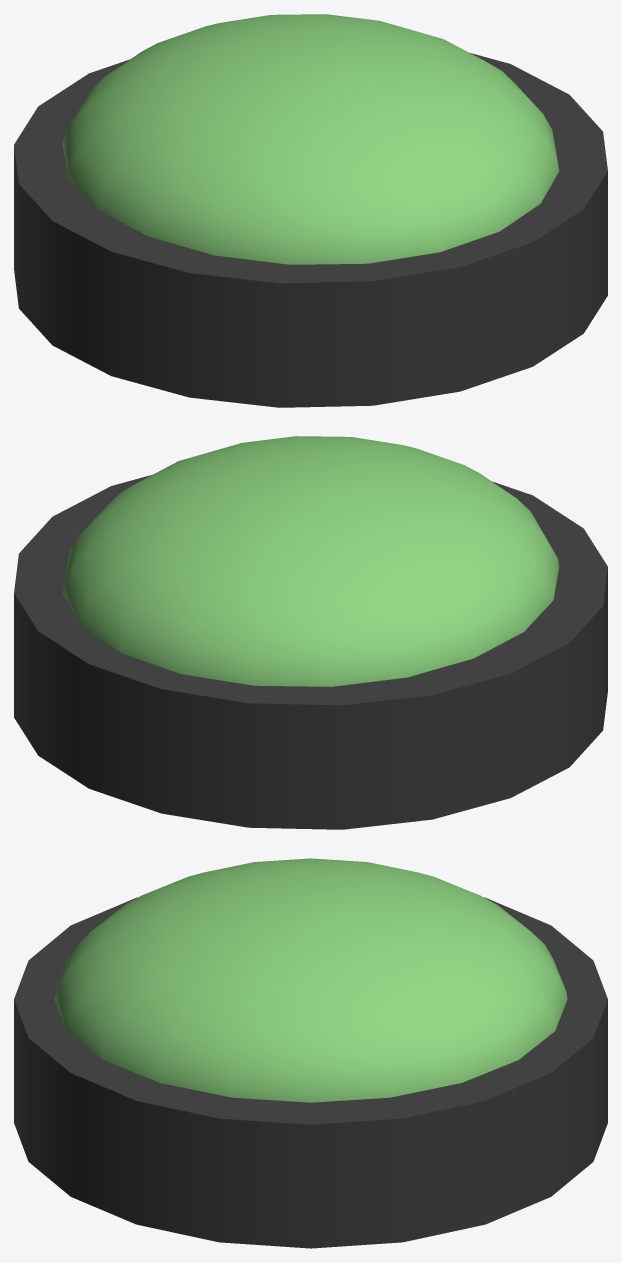
File: Button 1.fbx
3 renders of one model, top to bottom at view 1: azimuth 30°, elevation 25°; view 2: azimuth 150°, elevation 25°; view 3: azimuth 270°, elevation 25°, orthographic.
Parts seen in each view (by area): view 1: polySurface167, polySurface166; view 2: polySurface167, polySurface166; view 3: polySurface166, polySurface167.
Boxes of the visible parts, box(x1,y1,x2,y2) form: polySurface167: box(14, 52, 607, 407); polySurface166: box(62, 14, 559, 264); polySurface167: box(14, 474, 607, 829); polySurface166: box(62, 436, 559, 686); polySurface166: box(54, 858, 567, 1102); polySurface167: box(14, 897, 607, 1248).
Bounding box in the file's own units: 2.25 × 0.9279 × 2.25.
